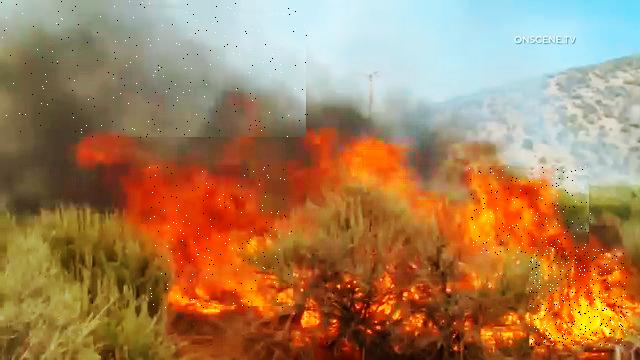fire: (149, 166, 293, 309), (470, 167, 592, 256), (529, 249, 627, 346)
smoke: (1, 1, 309, 140)
